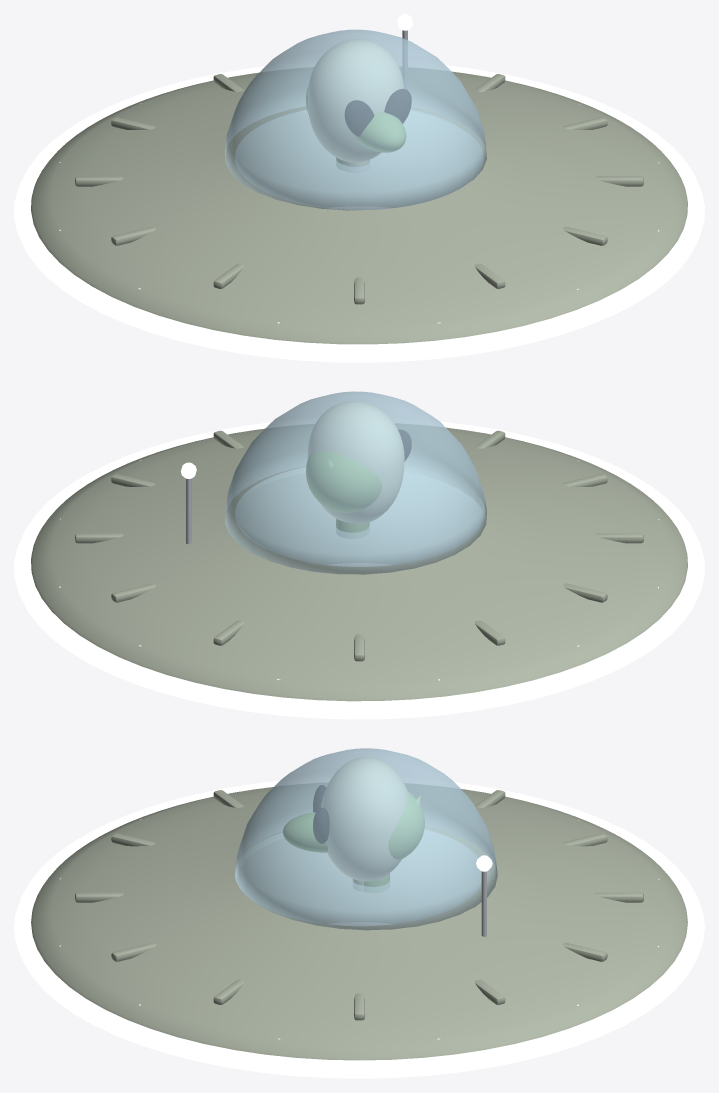
Rendered from saucers.glb.
The picture shows the model from 3 angles, top to bottom: view 1: azimuth 30°, elevation 25°; view 2: azimuth 150°, elevation 25°; view 3: azimuth 270°, elevation 25°; orthographic projection.
Parts seen in each view (by area): view 1: SaucerNibiru_Nibiru_Hull, SaucerNibiru_Glass, SaucerZeta_Glass, SaucerNibiru_Neon, SaucerZeta_Zeta_Skin, SaucerNibiru_Nibiru_Skin, SaucerZeta_Zeta_Eye; view 2: SaucerNibiru_Nibiru_Hull, SaucerNibiru_Glass, SaucerZeta_Glass, SaucerNibiru_Neon, SaucerZeta_Zeta_Skin, SaucerNibiru_Nibiru_Skin; view 3: SaucerNibiru_Nibiru_Hull, SaucerNibiru_Glass, SaucerZeta_Glass, SaucerNibiru_Neon, SaucerZeta_Zeta_Skin, SaucerNibiru_Nibiru_Skin, SaucerZeta_Zeta_Eye.
Part boxes in pixels (<box>): SaucerNibiru_Nibiru_Hull: <box>31,67,687,344</box>; SaucerNibiru_Glass: <box>225,29,486,210</box>; SaucerZeta_Glass: <box>225,30,486,210</box>; SaucerNibiru_Neon: <box>14,14,704,362</box>; SaucerZeta_Zeta_Skin: <box>307,39,403,172</box>; SaucerNibiru_Nibiru_Skin: <box>306,88,405,170</box>; SaucerZeta_Zeta_Eye: <box>345,89,411,136</box>; SaucerNibiru_Nibiru_Hull: <box>31,424,687,701</box>; SaucerNibiru_Glass: <box>225,391,486,574</box>; SaucerZeta_Glass: <box>225,391,486,574</box>; SaucerNibiru_Neon: <box>14,418,704,719</box>; SaucerZeta_Zeta_Skin: <box>307,401,404,524</box>; SaucerNibiru_Nibiru_Skin: <box>306,452,381,538</box>; SaucerNibiru_Nibiru_Hull: <box>31,783,687,1060</box>; SaucerNibiru_Glass: <box>235,748,497,929</box>; SaucerZeta_Glass: <box>235,748,497,929</box>; SaucerNibiru_Neon: <box>14,778,704,1078</box>; SaucerZeta_Zeta_Skin: <box>321,757,408,891</box>; SaucerNibiru_Nibiru_Skin: <box>283,792,424,892</box>; SaucerZeta_Zeta_Eye: <box>313,785,329,843</box>.
Bounding box in the file's own units: 4.98 × 2 × 4.98.
